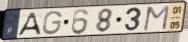3: (123, 7, 144, 33)
6: (70, 7, 90, 36)
8: (95, 7, 115, 34)
A: (16, 11, 43, 37)
G: (41, 10, 64, 36)
M: (141, 4, 171, 32)
